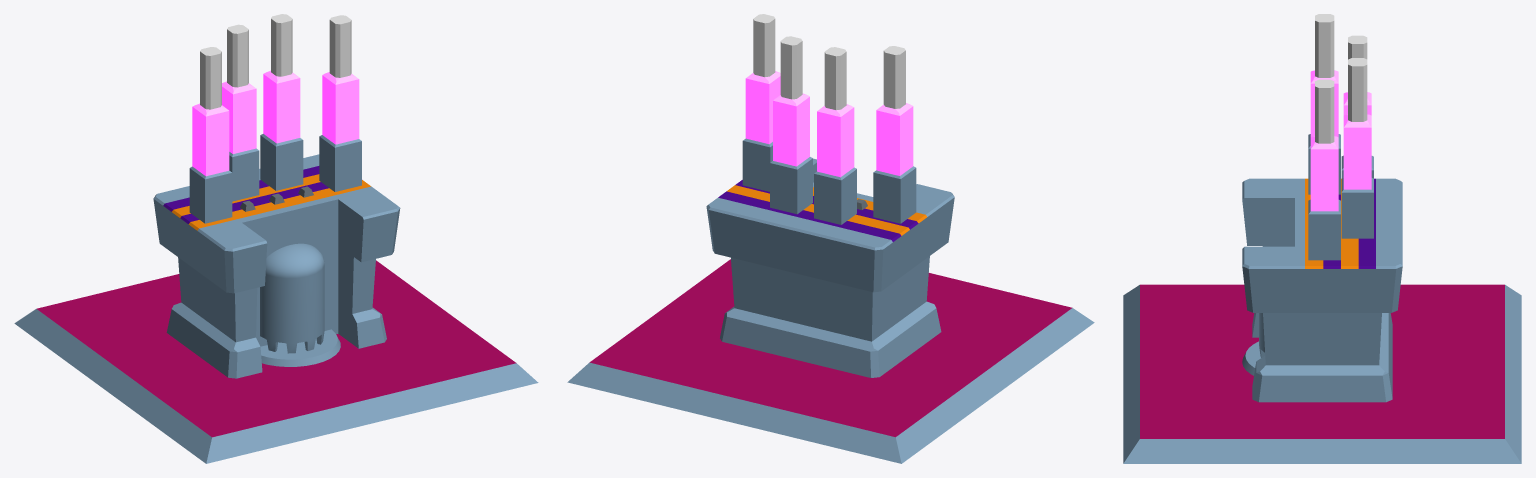
The model's file is 15_aaltar_6.fbx.
3 renders of one model, left to right at view 1: azimuth 30°, elevation 25°; view 2: azimuth 150°, elevation 25°; view 3: azimuth 270°, elevation 25°, orthographic. The views are drawn at different scales.
Visible parts, largest first — view 1: foundation_6; view 2: foundation_6; view 3: foundation_6.
Boxes of the visible parts, box(x1,y1,x2,y2) form: foundation_6: box(14, 14, 538, 463); foundation_6: box(567, 14, 1094, 463); foundation_6: box(1123, 14, 1521, 463).
Size of the model in its own units: 78.73 by 71.68 by 78.73.
